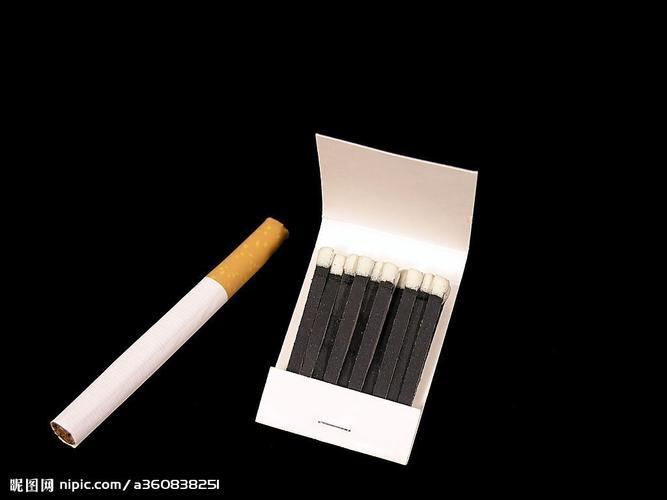smoke: (49, 219, 290, 449)
